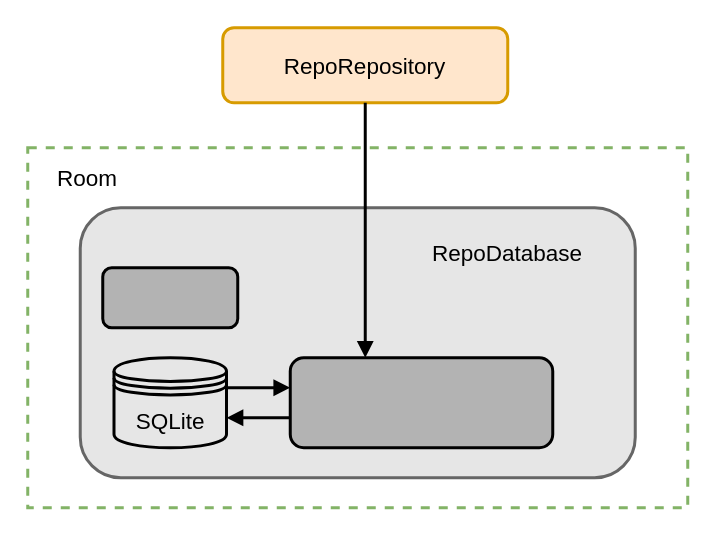
Image size: 714x534. Some labels were removed from this diagram. The shapes that lost their labels are listed below. From the top down, each one's centre as x and y in pixels, then its label:
At (169,297): "Repo".
At (421,402): "RepoDao".
